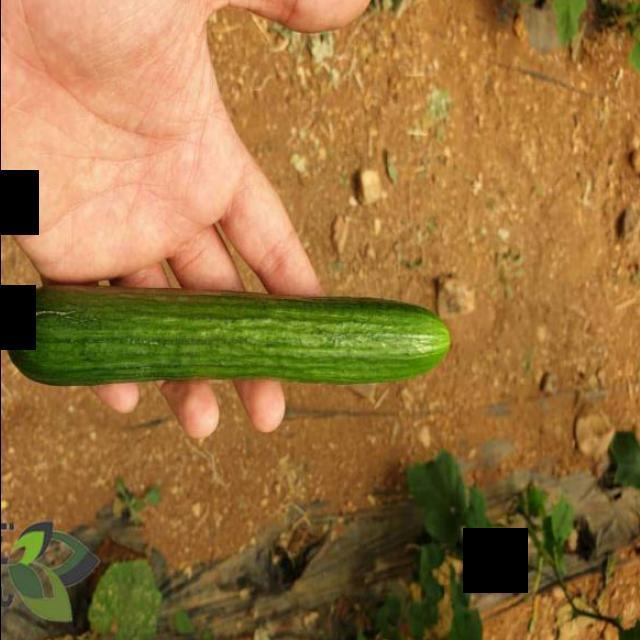cucumber: (0, 279, 457, 387)
